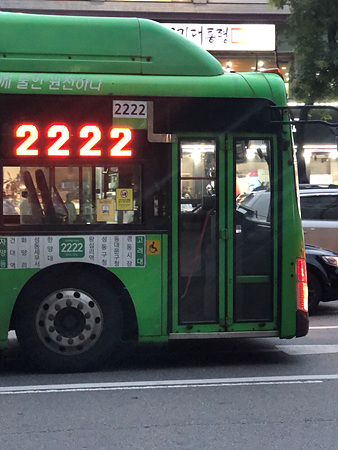entrance: (172, 131, 282, 336)
